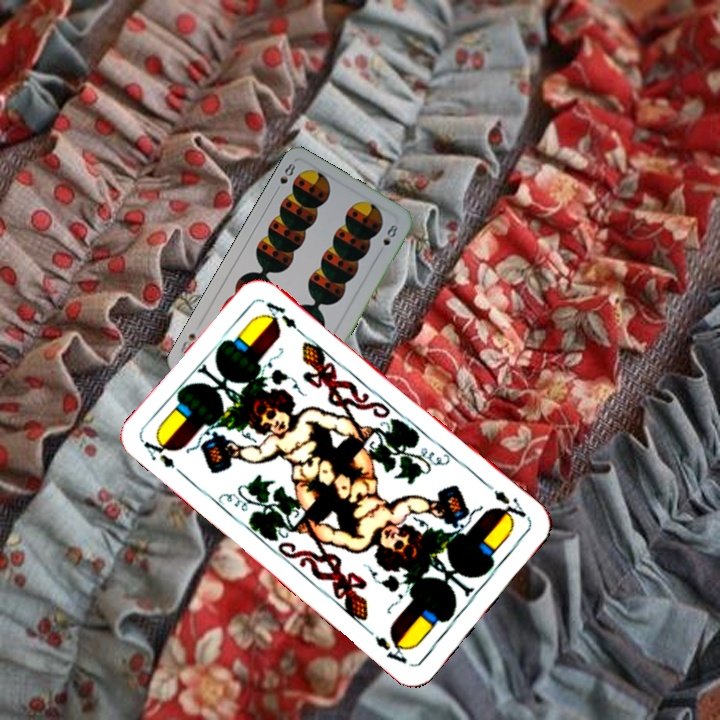EA: (139, 433, 189, 480), (483, 480, 533, 526)
S8: (271, 159, 298, 196)
